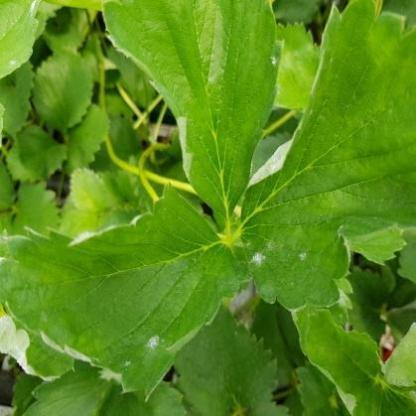Strawberry_Powdery_Mildew_Leaf: (229, 0, 416, 311), (0, 182, 252, 403), (101, 0, 285, 223), (290, 305, 416, 415), (0, 0, 42, 80)
